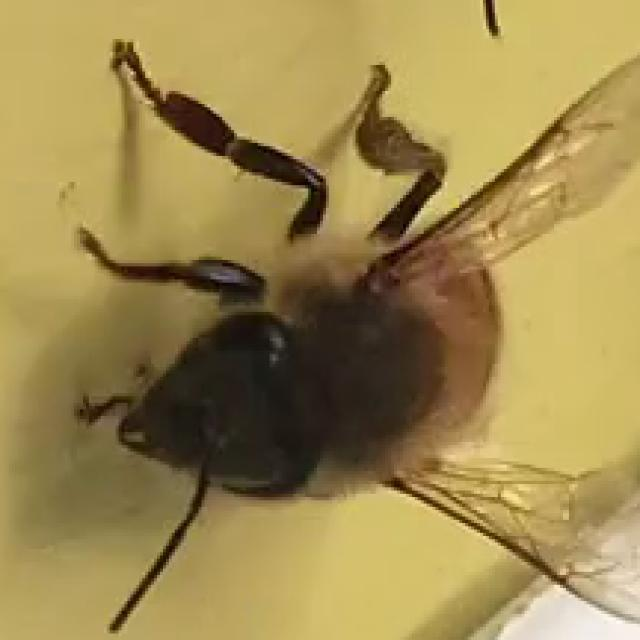honeybee: (52, 28, 640, 614)
